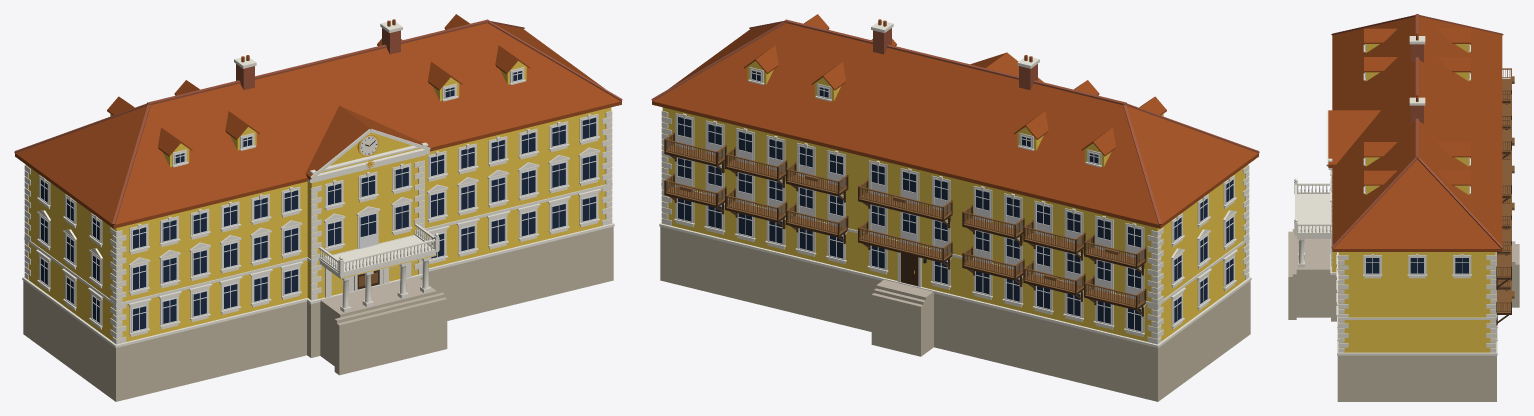
Rendered from SM_Ra_Main.fbx.
3 views of the same model, side by side, from view 1: azimuth 30°, elevation 25°; view 2: azimuth 150°, elevation 25°; view 3: azimuth 270°, elevation 25° (orthographic). The views are drawn at different scales.
Visible parts, largest first — view 1: SM_Ra_Main; view 2: SM_Ra_Main; view 3: SM_Ra_Main.
Part boxes in pixels (bbox=[...]): SM_Ra_Main: bbox=[14, 14, 622, 401]; SM_Ra_Main: bbox=[651, 14, 1259, 401]; SM_Ra_Main: bbox=[1288, 14, 1519, 401].
Size of the model in its own units: 45.39 by 22.85 by 20.64.
